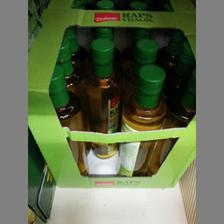Oel: (118, 64, 166, 176), (82, 38, 119, 158)
